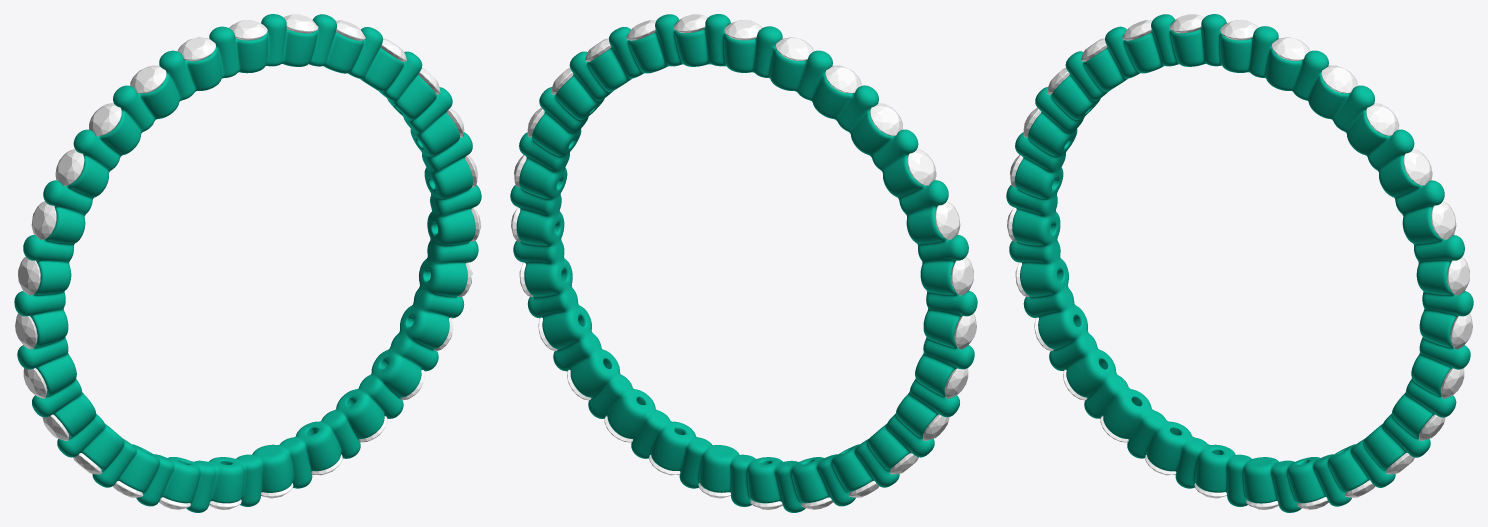
File: BE2D51211_RENDER.glb
The picture shows the model from 3 angles, left to right: view 1: azimuth 30°, elevation 25°; view 2: azimuth 150°, elevation 25°; view 3: azimuth 330°, elevation 25°; orthographic projection.
Visible parts, largest first — view 1: Metal03, Diamond_Round_Gem_BD.023, Diamond_Round_Gem_BD.022, Diamond_Round_Gem_BD.024, Diamond_Round_Gem_BD.021, Diamond_Round_Gem_BD.020, Diamond_Round_Gem_BD.025, Diamond_Round_Gem_BD.019, Diamond_Round_Gem_BD.026; view 2: Metal03, Diamond_Round_Gem_BD.022, Diamond_Round_Gem_BD.023, Diamond_Round_Gem_BD.024, Diamond_Round_Gem_BD.021, Diamond_Round_Gem_BD.020, Diamond_Round_Gem_BD.025, Diamond_Round_Gem_BD.019, Diamond_Round_Gem_BD.026; view 3: Metal03, Diamond_Round_Gem_BD.002, Diamond_Round_Gem_BD.003, Diamond_Round_Gem_BD.001, Diamond_Round_Gem_BD.004, Diamond_Round_Gem_BD.005, Diamond_Round_Gem_BD, Diamond_Round_Gem_BD.026, Diamond_Round_Gem_BD.006.
Part boxes in pixels (box(x1,y1,x2,y2)): Metal03: box(14, 14, 481, 512); Diamond_Round_Gem_BD.023: box(89, 103, 121, 136); Diamond_Round_Gem_BD.022: box(55, 149, 84, 185); Diamond_Round_Gem_BD.024: box(130, 65, 166, 93); Diamond_Round_Gem_BD.021: box(31, 201, 56, 239); Diamond_Round_Gem_BD.020: box(18, 257, 40, 295); Diamond_Round_Gem_BD.025: box(177, 37, 215, 61); Diamond_Round_Gem_BD.019: box(15, 313, 37, 349); Diamond_Round_Gem_BD.026: box(229, 20, 267, 40); Metal03: box(510, 14, 977, 512); Diamond_Round_Gem_BD.022: box(907, 149, 936, 185); Diamond_Round_Gem_BD.023: box(870, 103, 902, 135); Diamond_Round_Gem_BD.024: box(825, 65, 861, 93); Diamond_Round_Gem_BD.021: box(935, 201, 960, 239); Diamond_Round_Gem_BD.020: box(951, 257, 973, 295); Diamond_Round_Gem_BD.025: box(776, 37, 814, 61); Diamond_Round_Gem_BD.019: box(954, 313, 976, 349); Diamond_Round_Gem_BD.026: box(724, 20, 762, 40); Metal03: box(1006, 14, 1473, 512); Diamond_Round_Gem_BD.002: box(1366, 103, 1399, 135); Diamond_Round_Gem_BD.003: box(1403, 149, 1432, 185); Diamond_Round_Gem_BD.001: box(1321, 65, 1357, 93); Diamond_Round_Gem_BD.004: box(1431, 201, 1456, 239); Diamond_Round_Gem_BD.005: box(1447, 257, 1469, 295); Diamond_Round_Gem_BD: box(1272, 37, 1310, 61); Diamond_Round_Gem_BD.026: box(1220, 19, 1258, 40); Diamond_Round_Gem_BD.006: box(1450, 313, 1472, 349).
Bounding box in the file's own units: 20.42 × 20.38 × 1.54.
